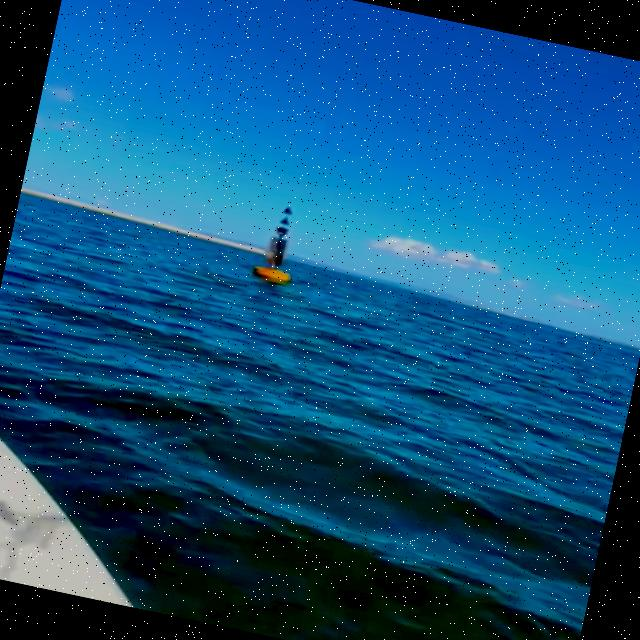marque: (253, 199, 308, 288)
